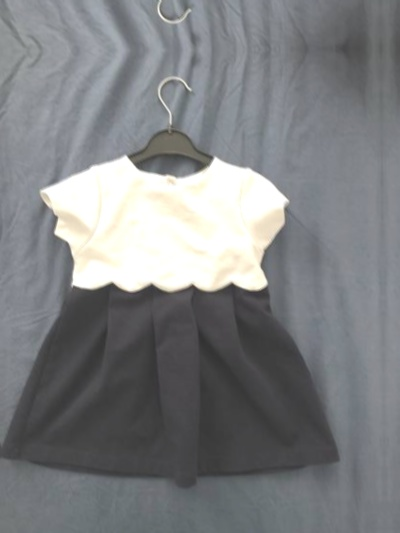Dress: (6, 132, 343, 492)
